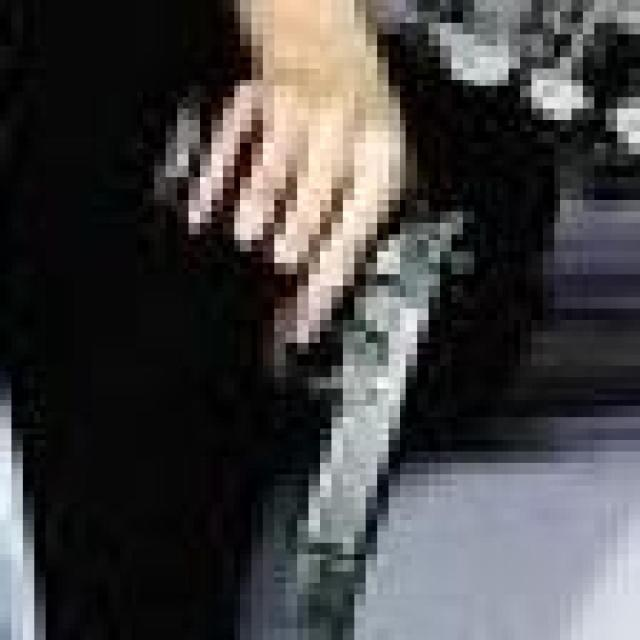pistol: (152, 82, 519, 616)
